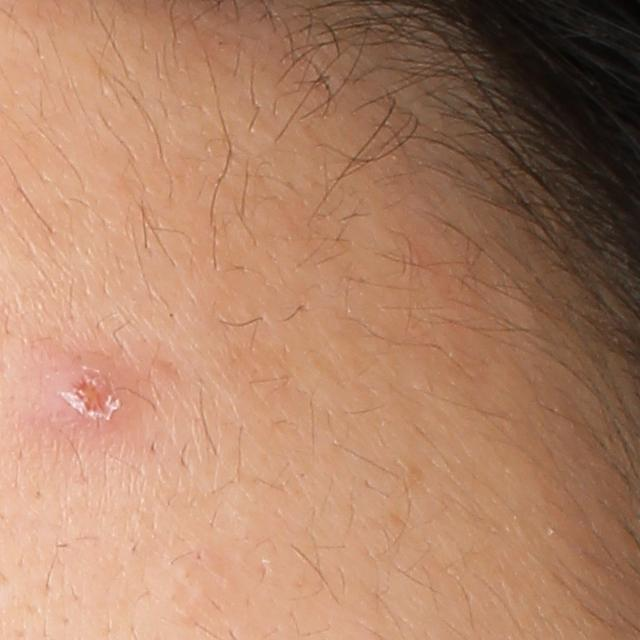papule: (27, 353, 131, 433)
